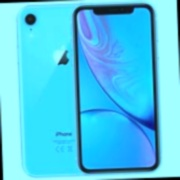iphone: (74, 4, 161, 175)
